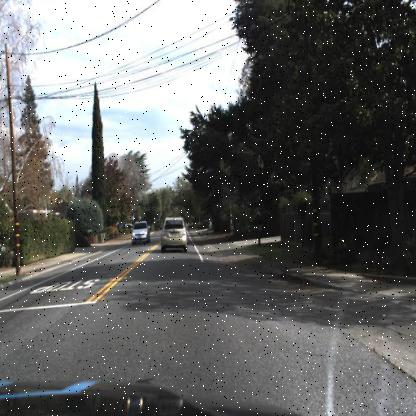car: (160, 216, 188, 255), (130, 219, 148, 247)
